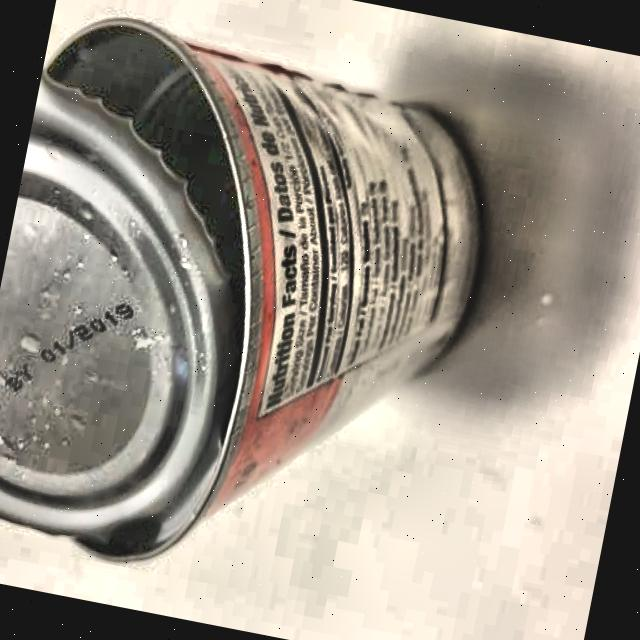metal: (0, 6, 508, 616)
